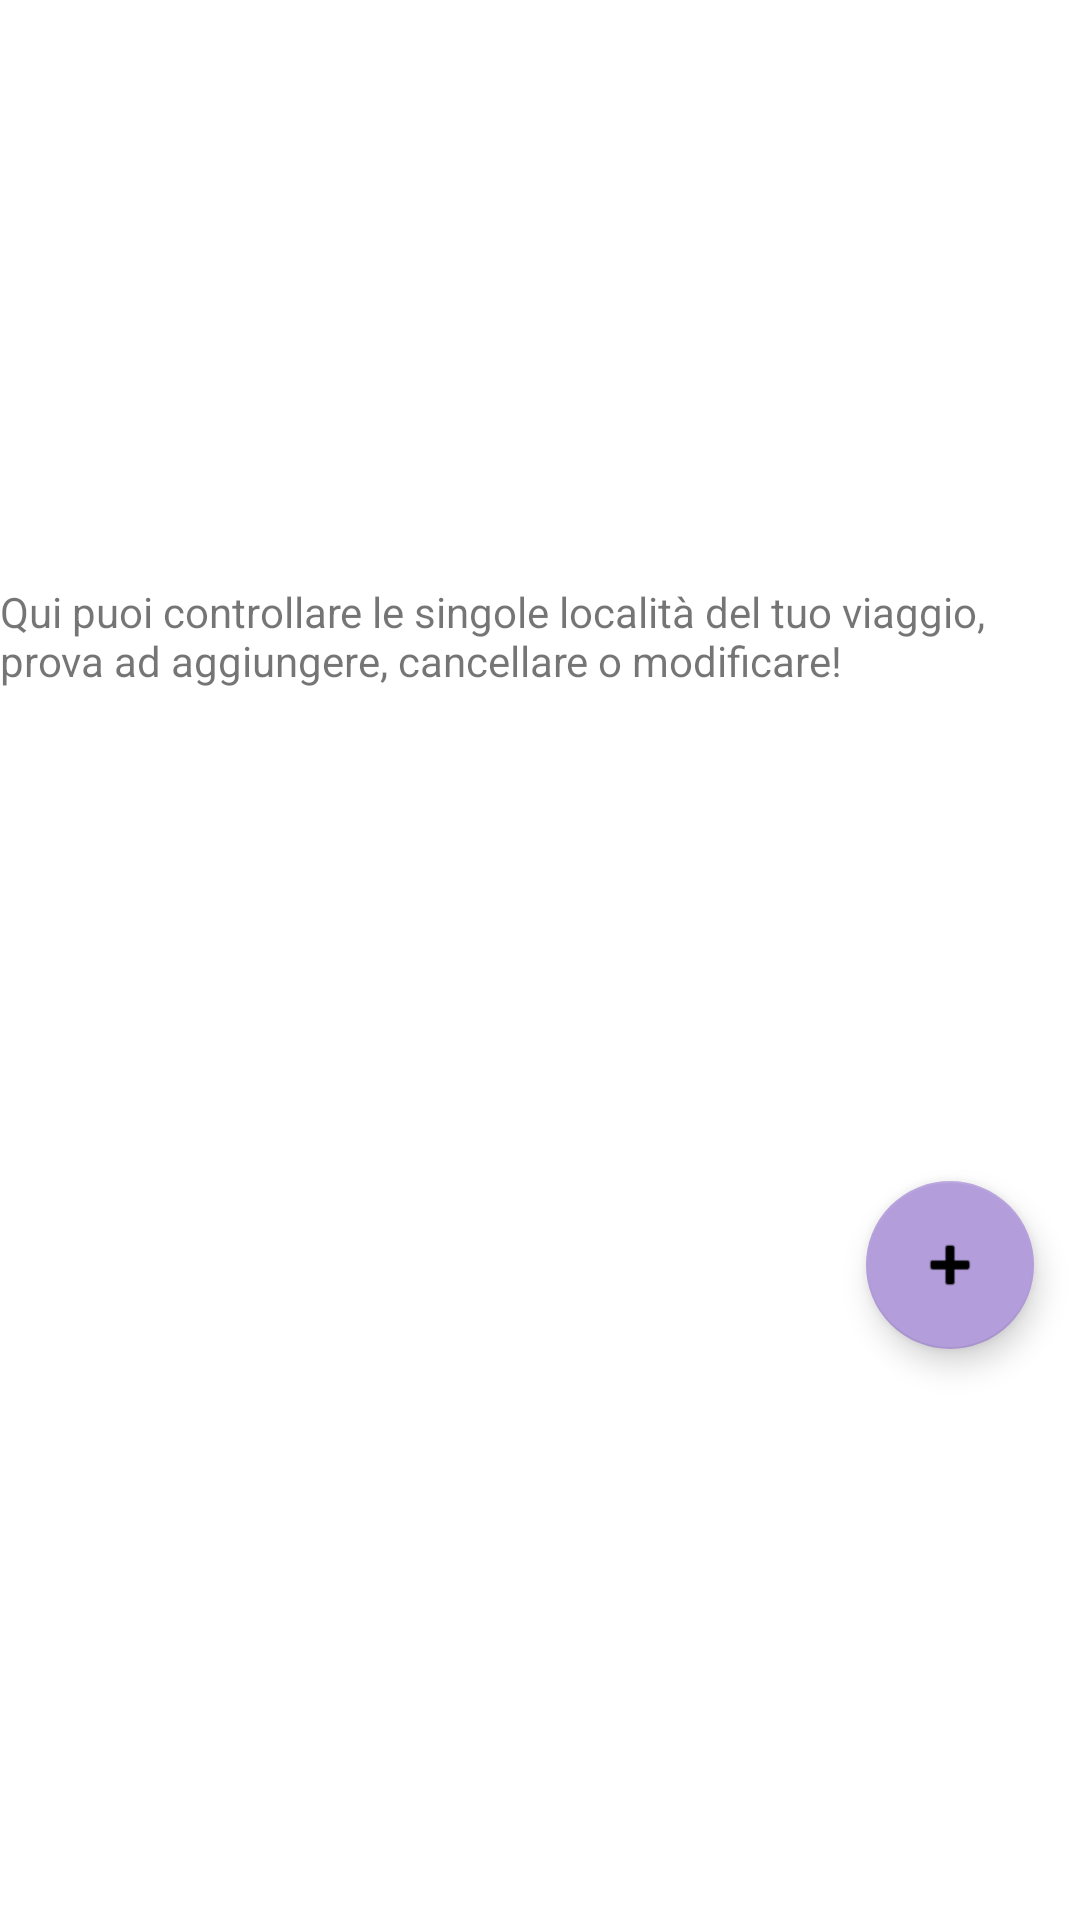

Screen size 1080×1920. Icon name, then its box in pixels as bbox(x1, y1, x2, y2):
add: bbox(866, 1181, 1034, 1349)
